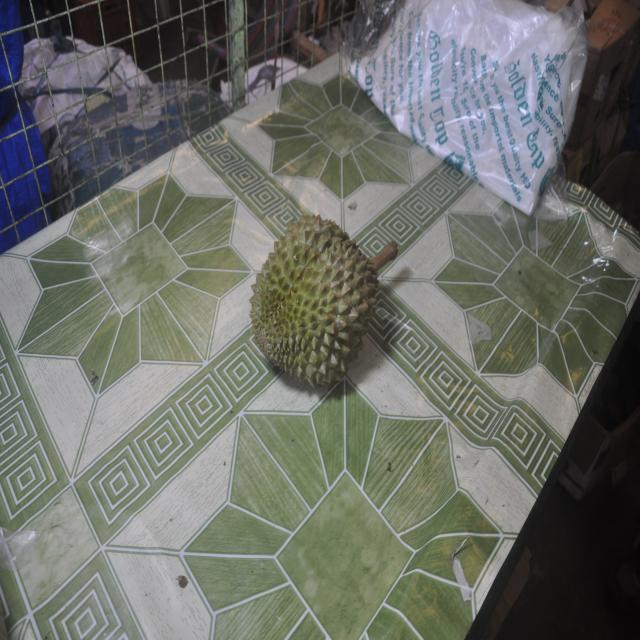mature: (249, 213, 383, 388)
